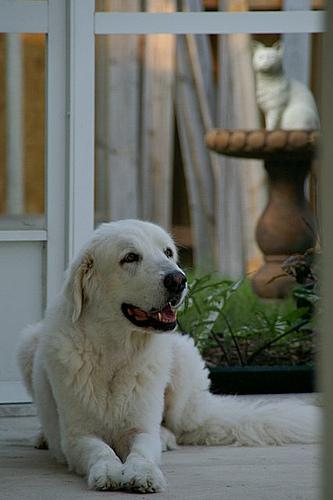dog-great_pyrenees: (60, 219, 187, 336)
